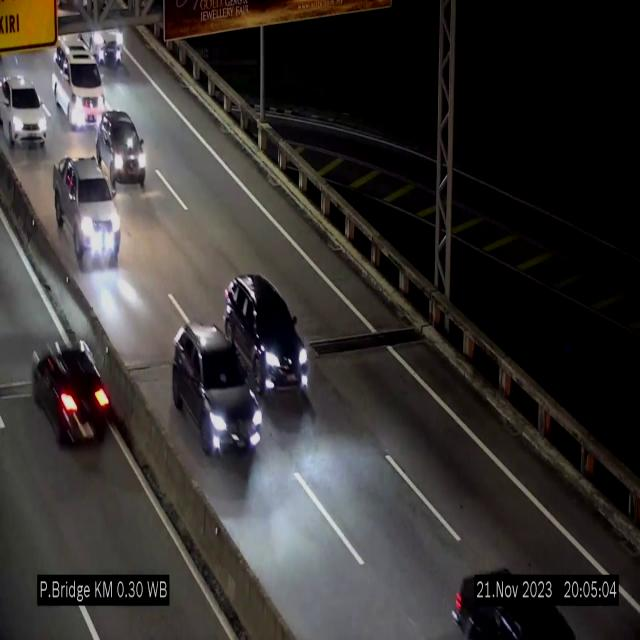Car: (173, 320, 263, 459), (220, 274, 310, 398), (50, 156, 122, 264), (97, 110, 149, 188), (0, 77, 48, 152)
